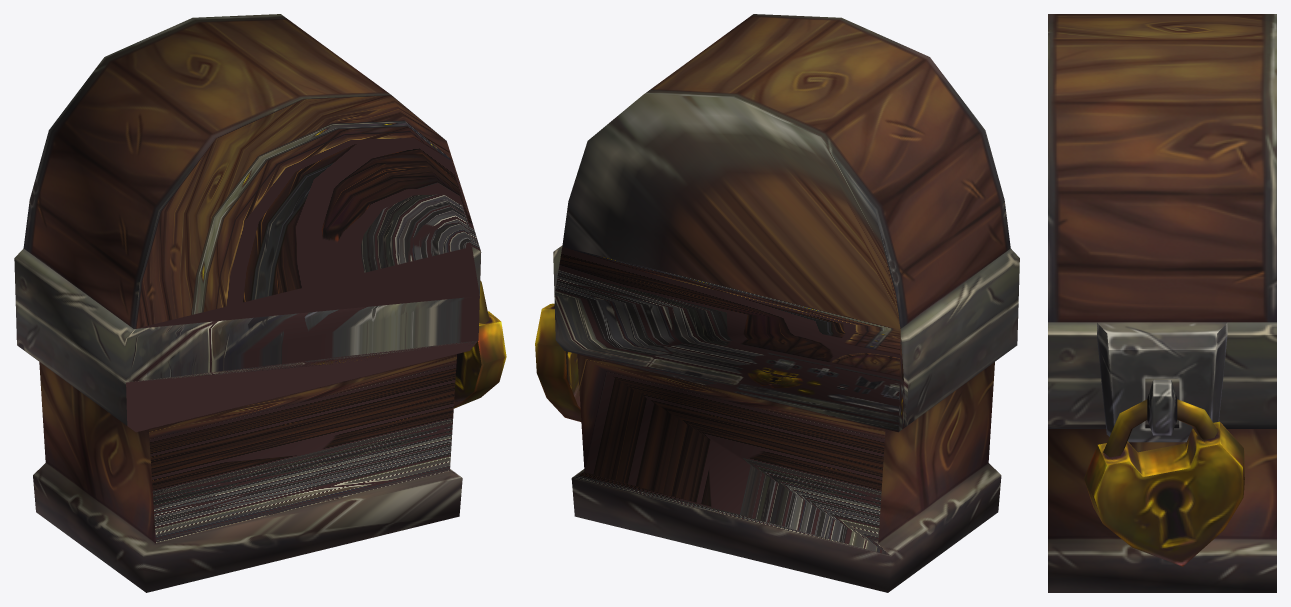
File: chest_close25.fbx
The picture shows the model from 3 angles, left to right: view 1: azimuth 30°, elevation 25°; view 2: azimuth 150°, elevation 25°; view 3: azimuth 270°, elevation 25°; orthographic projection. The views are drawn at different scales.
Parts seen in each view (by area): view 1: chest_close.002; view 2: chest_close.002; view 3: chest_close.002.
Part boxes in pixels (left/top/right/bottom): chest_close.002: left=14, top=14, right=506, bottom=592; chest_close.002: left=535, top=14, right=1019, bottom=592; chest_close.002: left=1048, top=14, right=1276, bottom=592.
Bounding box in the file's own units: 48.68 × 52.4 × 22.97.
